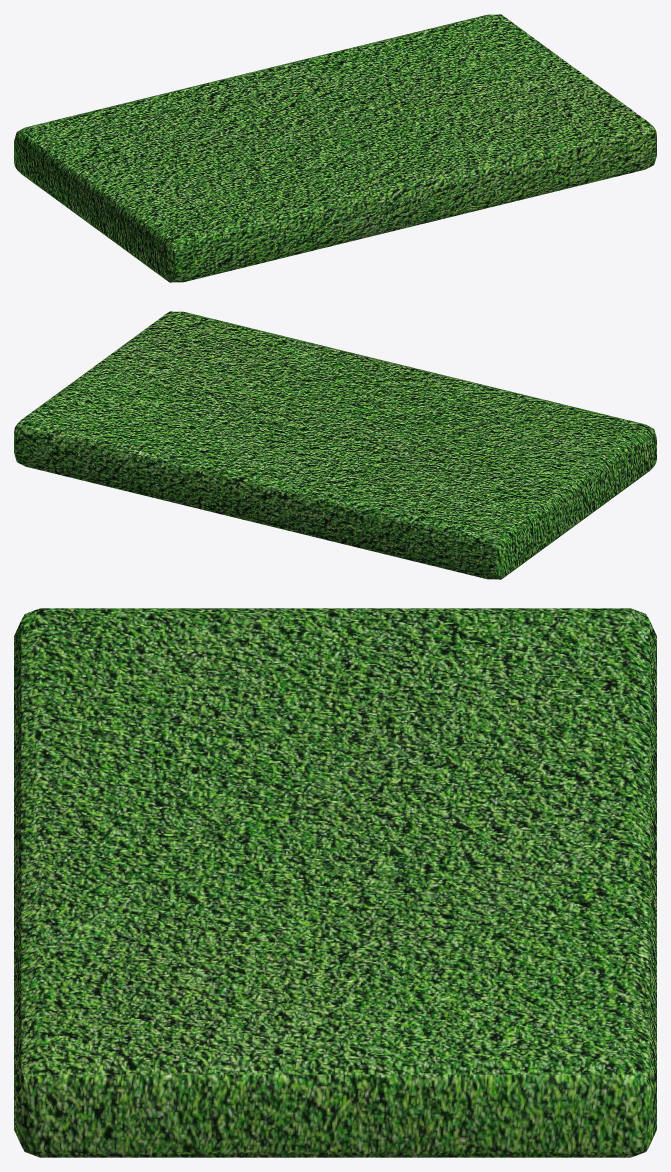
File: tapaPlataforma.fbx
3 views of the same model, one above another, from view 1: azimuth 30°, elevation 25°; view 2: azimuth 150°, elevation 25°; view 3: azimuth 270°, elevation 25° (orthographic). The views are drawn at different scales.
Visible parts, largest first — view 1: tapaPlataforma; view 2: tapaPlataforma; view 3: tapaPlataforma.
Part boxes in pixels (<box>): tapaPlataforma: <box>14,14,656,282</box>; tapaPlataforma: <box>14,311,656,579</box>; tapaPlataforma: <box>14,608,656,1157</box>.
Size of the model in its own units: 5.58 by 0.5 by 3.2.
1 material, 1 textured.
